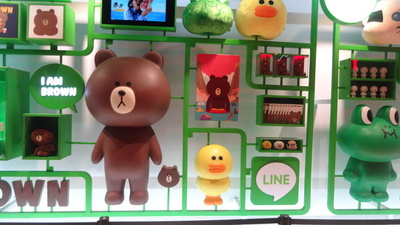line_brown: (82, 45, 176, 133)
